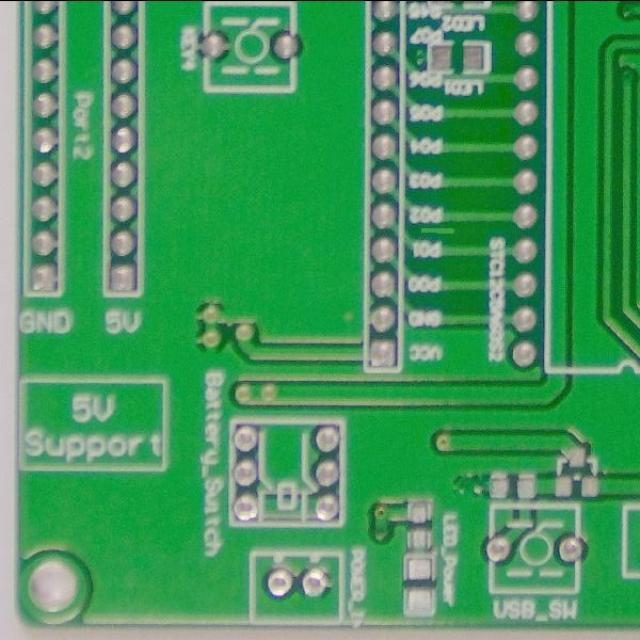spurious_copper: (415, 218, 456, 245)
